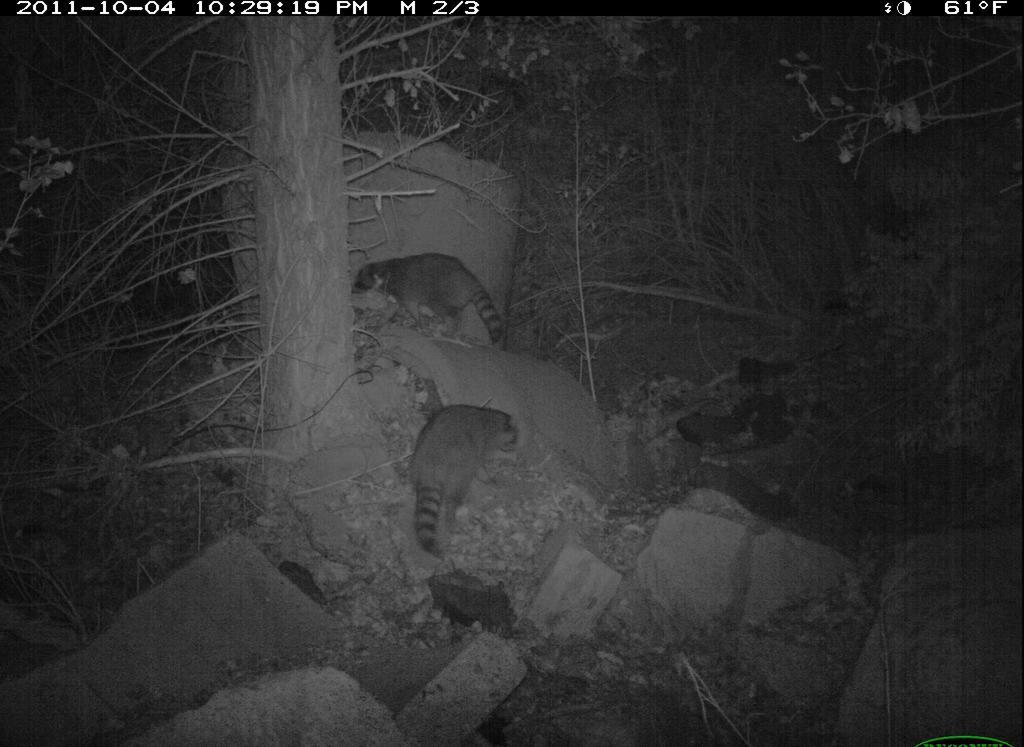raccoon: (408, 395, 524, 569), (351, 253, 519, 350)
